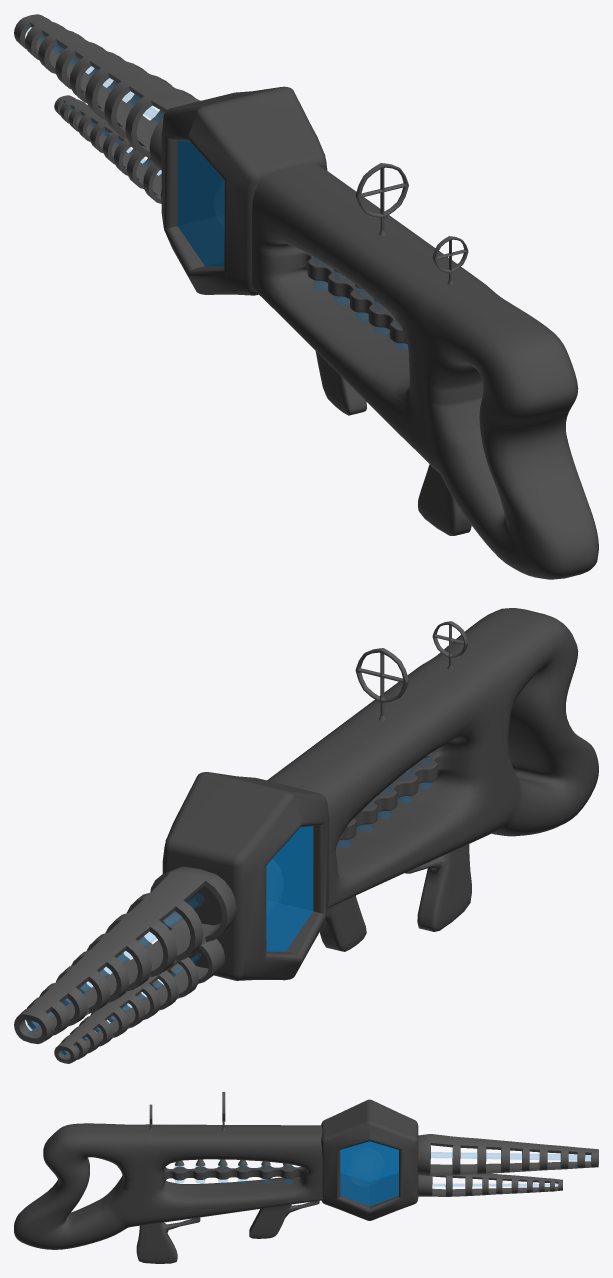
Rendered from armafuturista_textura.fbx.
The picture shows the model from 3 angles, top to bottom: view 1: azimuth 30°, elevation 25°; view 2: azimuth 150°, elevation 25°; view 3: azimuth 270°, elevation 25°; orthographic projection. The views are drawn at different scales.
Visible parts, largest first — view 1: cuerpo_arma, Tanque, pCone3, protetordenucleo1, pCone4, mazo, pPlane20; view 2: cuerpo_arma, Tanque, pCone3, pCone4, mazo, protetordenucleo1, pPlane20, electrodo, pPlane21; view 3: cuerpo_arma, Tanque, pCone3, protetordenucleo, mazo, pCone4, protetordenucleo1, electrodo.
Boxes of the visible parts, bbox=[...] form: cuerpo_arma: bbox=[252, 163, 598, 579]; Tanque: bbox=[161, 86, 327, 295]; pCone3: bbox=[14, 14, 200, 170]; protetordenucleo1: bbox=[177, 140, 224, 266]; pCone4: bbox=[54, 95, 161, 203]; mazo: bbox=[315, 351, 471, 535]; pPlane20: bbox=[355, 163, 408, 217]; cuerpo_arma: bbox=[267, 608, 598, 908]; Tanque: bbox=[162, 772, 329, 980]; pCone3: bbox=[14, 866, 236, 1043]; pCone4: bbox=[54, 939, 224, 1063]; mazo: bbox=[319, 844, 471, 951]; protetordenucleo1: bbox=[266, 826, 313, 951]; pPlane20: bbox=[355, 648, 408, 702]; electrodo: bbox=[26, 895, 201, 1032]; pPlane21: bbox=[432, 621, 468, 657]; cuerpo_arma: bbox=[14, 1123, 322, 1249]; Tanque: bbox=[321, 1099, 418, 1220]; pCone3: bbox=[417, 1134, 598, 1175]; protetordenucleo: bbox=[340, 1141, 398, 1206]; mazo: bbox=[136, 1201, 319, 1263]; pCone4: bbox=[418, 1173, 562, 1196]; protetordenucleo1: bbox=[341, 1142, 398, 1180]; electrodo: bbox=[431, 1152, 590, 1160].
Bounding box in the file's own units: 4.55 × 12.17 × 38.12.
